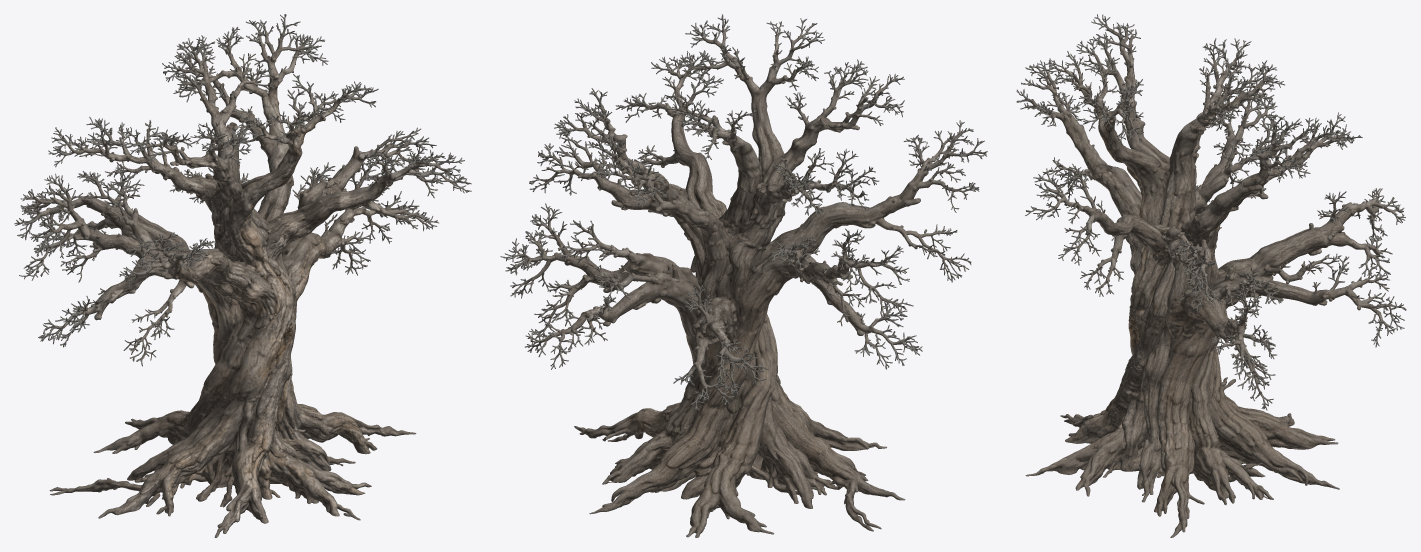
File: tree_sentinel.glb
3 views of the same model, side by side, from view 1: azimuth 30°, elevation 25°; view 2: azimuth 150°, elevation 25°; view 3: azimuth 270°, elevation 25° (orthographic). The views are drawn at different scales.
Visible parts, largest first — view 1: tree_sentinel; view 2: tree_sentinel; view 3: tree_sentinel.
Boxes of the visible parts, x1,y1,x2,y2 form: tree_sentinel: (14, 14, 471, 537); tree_sentinel: (500, 14, 987, 537); tree_sentinel: (1016, 14, 1406, 537).
Bounding box in the file's own units: 189 × 187 × 167.
1 material, 1 textured.
